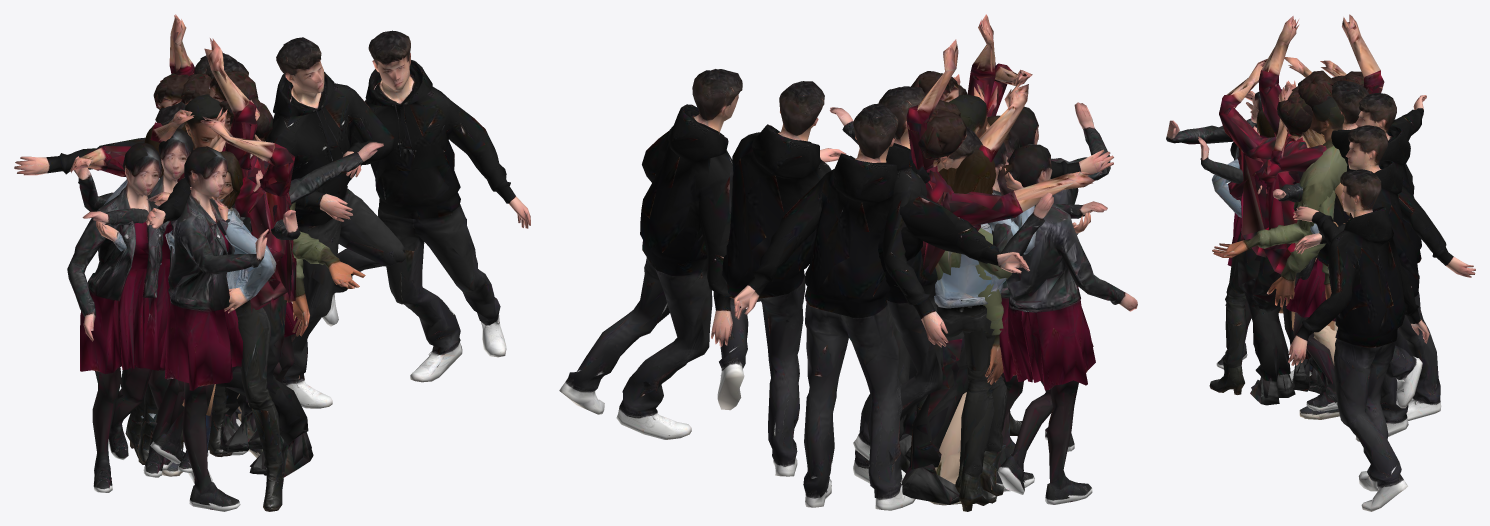
Rendered from foule.glb.
3 renders of one model, left to right at view 1: azimuth 30°, elevation 25°; view 2: azimuth 150°, elevation 25°; view 3: azimuth 270°, elevation 25°, orthographic. The views are drawn at different scales.
Visible parts, largest first — view 1: danse_p0_1, danse_p0_0, danse_p5_2, danse_p5_3, danse_p1_1, danse_p4_2, danse_p4_0, danse_p5_1, danse_p5_0, danse_p4_1, danse_p0_3, danse_p4_3 (+7 smaller); view 2: calme_p0_4, danse_p0_1, danse_p0_0, danse_p5_3, danse_p4_3, danse_p0_2, danse_p0_3, danse_p1_2, danse_p4_0, calme_p2_2, danse_p1_3, danse_p5_1 (+5 smaller); view 3: danse_p0_1, danse_p4_2, danse_p0_0, calme_p0_4, danse_p4_1, calme_p2_1, danse_p4_0, danse_p1_1, danse_p5_0, danse_p5_2, calme_p2_0, danse_p0_2 (+6 smaller).
Part boxes in pixels (x1,y1,x2,y2): danse_p0_1: (347, 30, 530, 382); danse_p0_0: (266, 37, 405, 408); danse_p5_2: (150, 146, 300, 511); danse_p5_3: (67, 143, 169, 492); danse_p1_1: (96, 151, 283, 511); danse_p4_2: (150, 97, 294, 474); danse_p4_0: (169, 14, 258, 452); danse_p5_1: (73, 128, 263, 472); danse_p5_0: (82, 142, 383, 477); danse_p4_1: (184, 101, 313, 477); danse_p0_3: (14, 101, 241, 426); danse_p4_3: (70, 73, 238, 432); calme_p0_4: (733, 103, 915, 510); danse_p0_1: (559, 69, 742, 439); danse_p0_0: (717, 81, 846, 476); danse_p5_3: (997, 143, 1137, 504); danse_p4_3: (901, 109, 1094, 504); danse_p0_2: (853, 86, 948, 482); danse_p0_3: (853, 126, 1113, 483); danse_p1_2: (916, 149, 1006, 511); danse_p4_0: (904, 14, 995, 434); calme_p2_2: (932, 94, 1003, 504); danse_p1_3: (939, 166, 1036, 501); danse_p5_1: (987, 117, 1053, 418); danse_p0_1: (1288, 169, 1429, 511); danse_p4_2: (1219, 57, 1313, 397); danse_p0_0: (1293, 125, 1422, 441); calme_p0_4: (1355, 93, 1475, 420); danse_p4_1: (1228, 97, 1312, 405); calme_p2_1: (1212, 97, 1347, 419); danse_p4_0: (1258, 14, 1384, 393); danse_p1_1: (1209, 109, 1274, 394); danse_p5_0: (1273, 183, 1337, 411); danse_p5_2: (1166, 89, 1281, 369); calme_p2_0: (1267, 163, 1339, 419); danse_p0_2: (1331, 80, 1414, 194).
Bounding box in the file's own units: 2.4 × 2.13 × 1.61.
6 materials, 6 textured.
